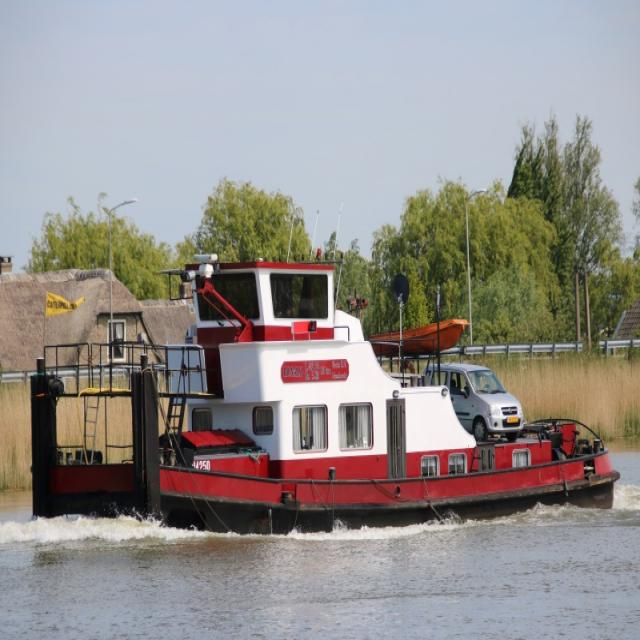tugboat: (30, 201, 627, 548)
